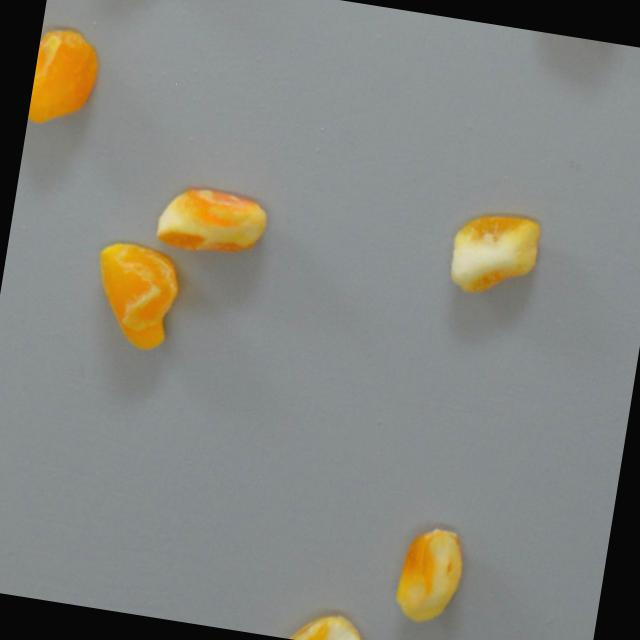pelicula: (83, 239, 186, 357), (444, 206, 544, 304), (153, 183, 271, 262), (27, 23, 106, 134), (393, 522, 470, 628)
